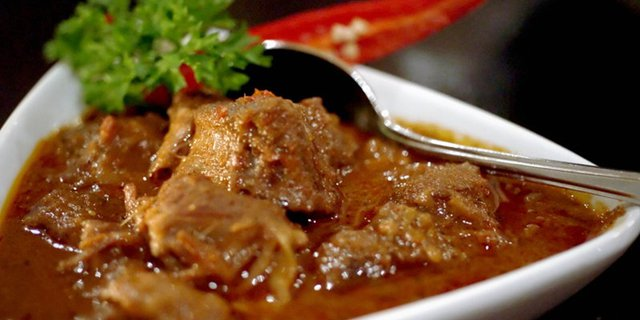rendang: (14, 23, 618, 311)
